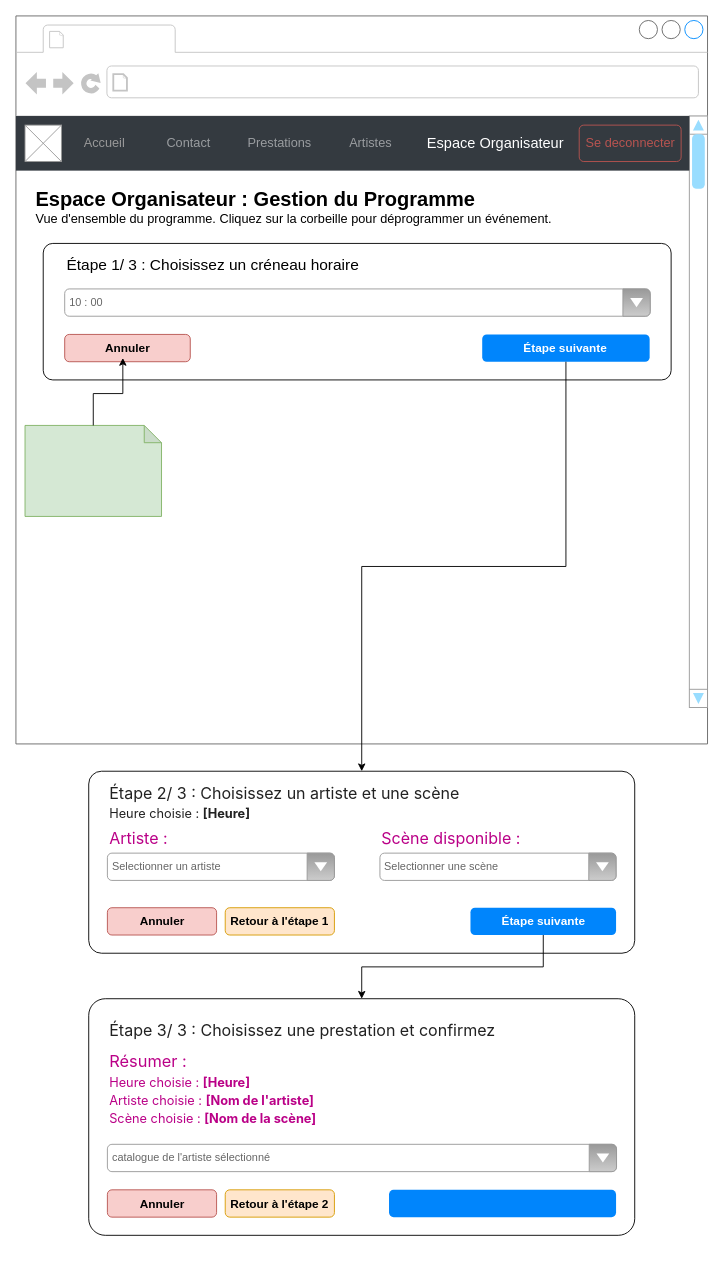
Image size: 724x1288. Some labels were removed from this diagram. The centre of each missing label's shape, as x and y in pixels:
Confirmer et ajouter au programme: point (502, 1203)
https://www.draw.io/tableau_de_bord: point (247, 82)
redirige vers la page de gestion du programme.: point (93, 470)
tableau de bord: point (143, 38)
